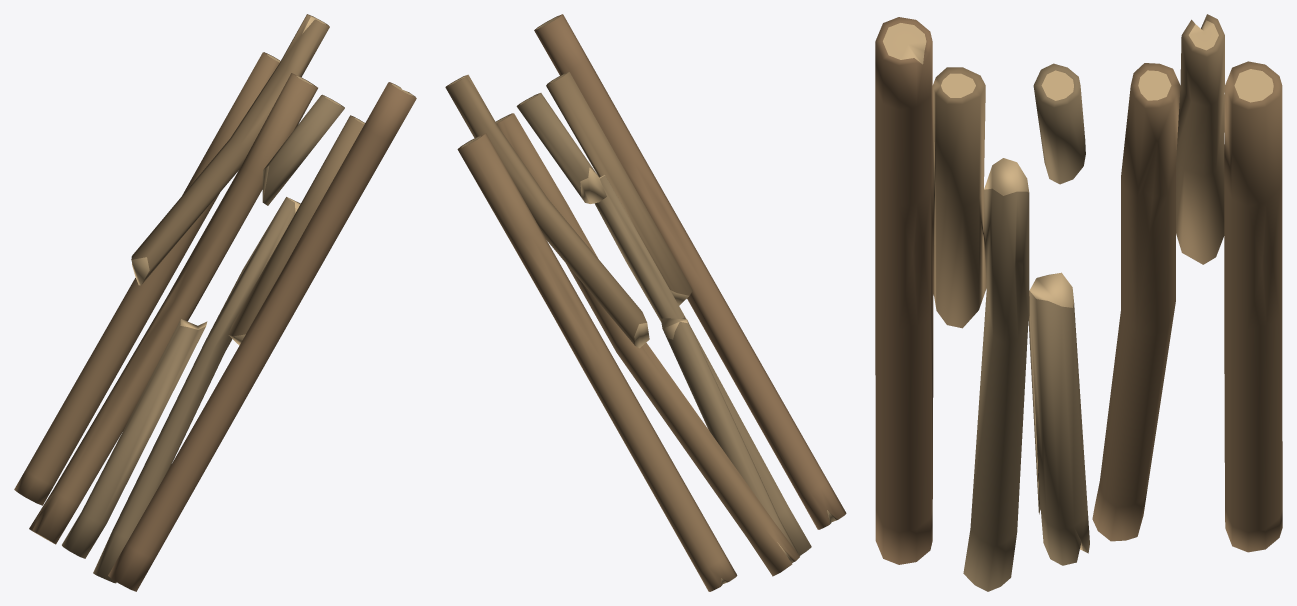
The model's file is rpgpp_av_roof_01_6x5x3_half_a.gltf.
3 views of the same model, side by side, from view 1: azimuth 30°, elevation 25°; view 2: azimuth 150°, elevation 25°; view 3: azimuth 270°, elevation 25° (orthographic). The views are drawn at different scales.
Visible parts, largest first — view 1: rpgpp_av_roof_01_6x5x3_half_a; view 2: rpgpp_av_roof_01_6x5x3_half_a; view 3: rpgpp_av_roof_01_6x5x3_half_a.
Part boxes in pixels (bbox=[...]): rpgpp_av_roof_01_6x5x3_half_a: bbox=[14, 14, 416, 591]; rpgpp_av_roof_01_6x5x3_half_a: bbox=[445, 14, 846, 591]; rpgpp_av_roof_01_6x5x3_half_a: bbox=[875, 14, 1282, 591].
Bounding box in the file's own units: 0.0474 × 0.0646 × 0.03.
Materials: 1 (1 with a texture image).
